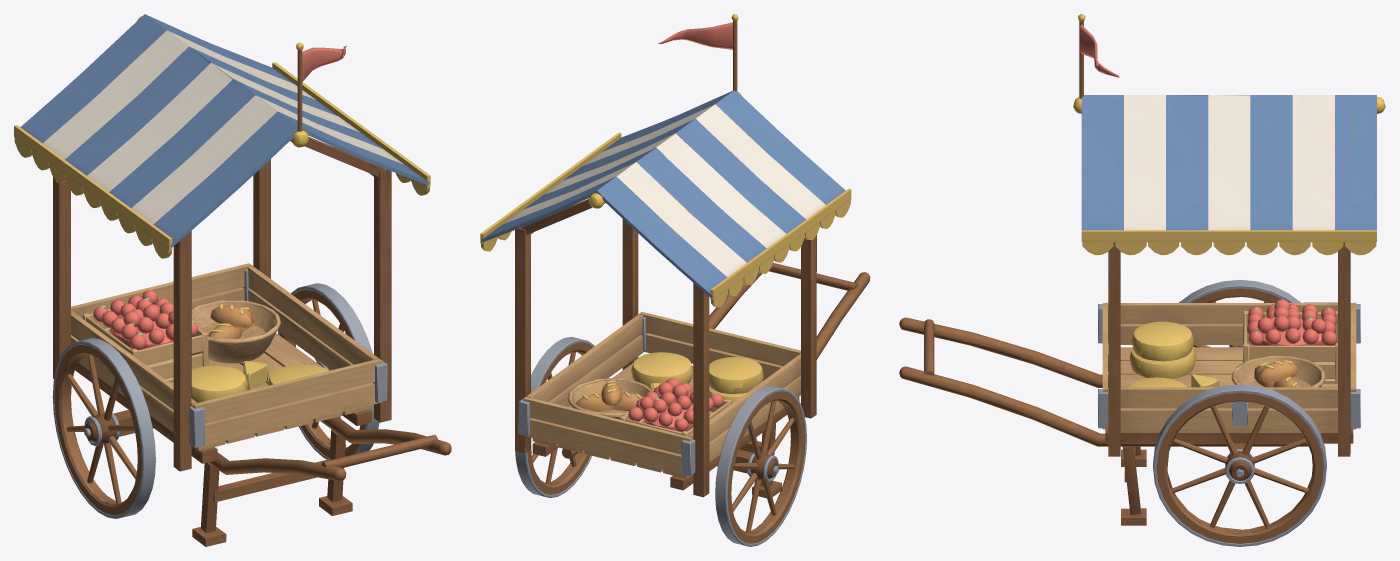
Rendered from carro_mercado.glb.
3 views of the same model, side by side, from view 1: azimuth 30°, elevation 25°; view 2: azimuth 150°, elevation 25°; view 3: azimuth 270°, elevation 25° (orthographic). The views are drawn at different scales.
Parts seen in each view (by area): view 1: market-cart_apples; view 2: market-cart_apples; view 3: market-cart_apples.
Part boxes in pixels (left/top/right/bottom): market-cart_apples: left=14, top=14, right=451, bottom=546; market-cart_apples: left=480, top=14, right=870, bottom=546; market-cart_apples: left=899, top=14, right=1385, bottom=546.
Size of the model in its own units: 1.49 by 2.73 by 2.52.
11 materials, 1 textured.
